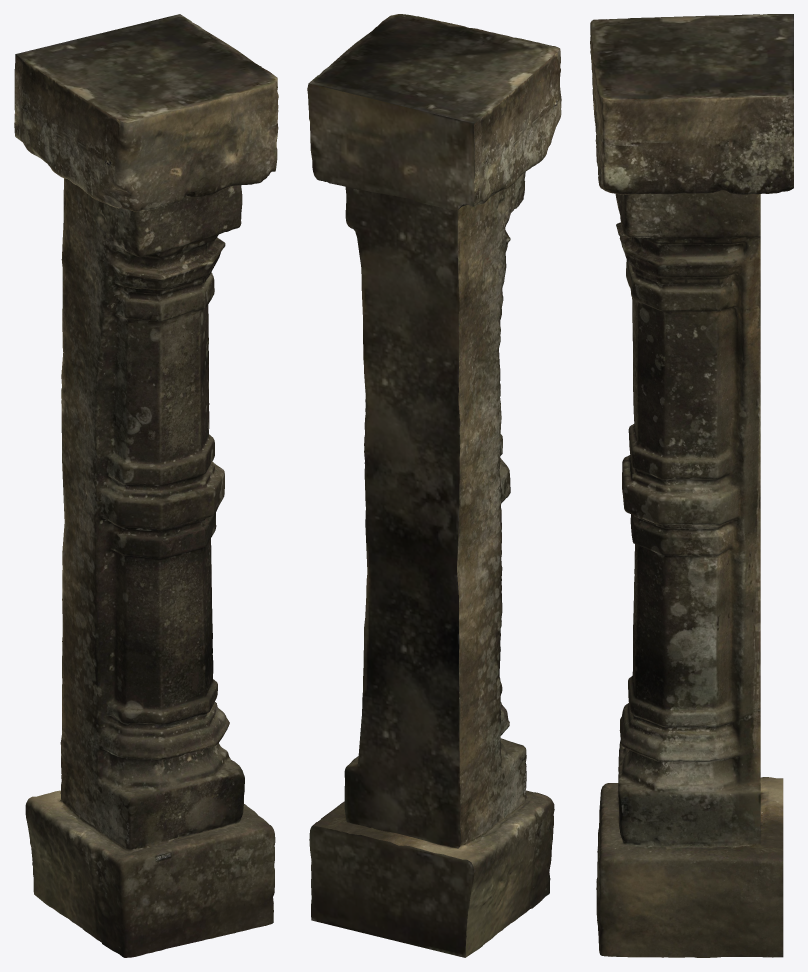
The model's file is MysonMuseum_trucuaC2 (1)_final.glb.
The picture shows the model from 3 angles, left to right: view 1: azimuth 30°, elevation 25°; view 2: azimuth 150°, elevation 25°; view 3: azimuth 270°, elevation 25°; orthographic projection. The views are drawn at different scales.
Size of the model in its own units: 0.5186 by 2.38 by 0.5118.
1 material, 1 textured.
